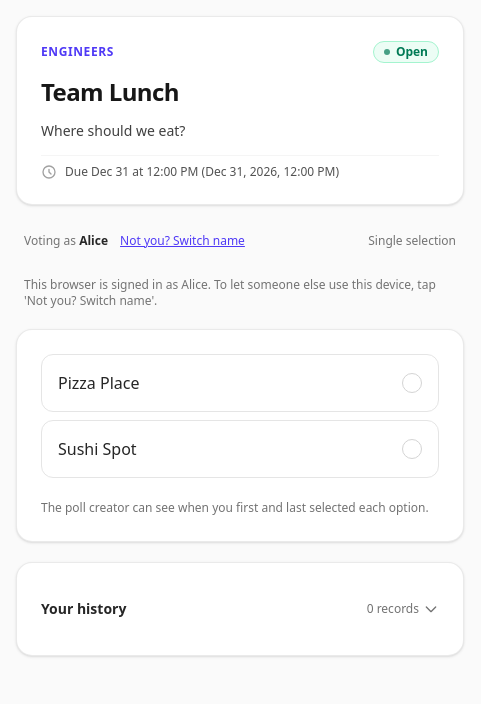
Test: PollPage › "Not you? Switch name" on PollPage asks for confirmation and releases claim
Check: the text "Voting as" is shown, box [24,232,79,249]
Check: the text "Alice" is shown, box [79,232,108,249]
Find and click "Not you? Switch name"
Step 1. Click the button "Not you? Switch name" → (182, 241), box [116,225,249,257]
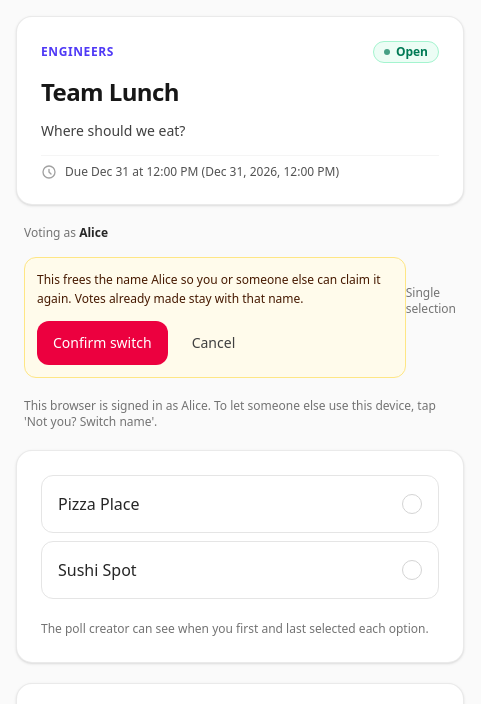
Check: the text "This frees the name Alice so you or someone else can claim it again. Votes already made stay with that name." is shown, box [37,270,393,309]
Confirm switch
Step 2. Click the button "Confirm switch" → (102, 343), box [37,321,168,365]
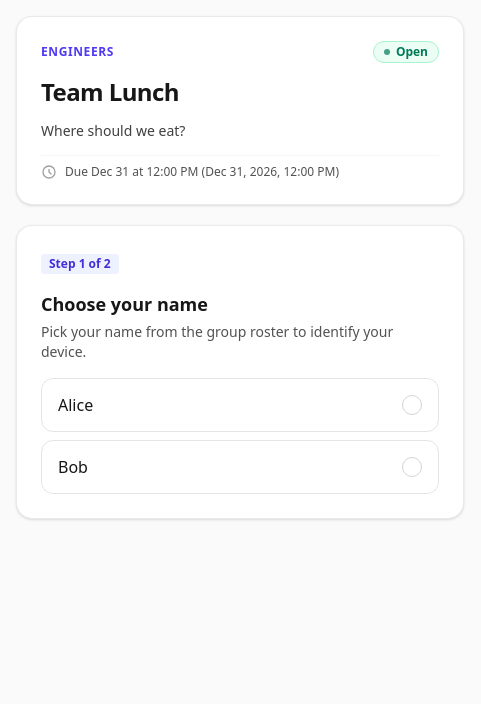
Check: the heading "Choose your name" is shown, box [41,292,208,316]
